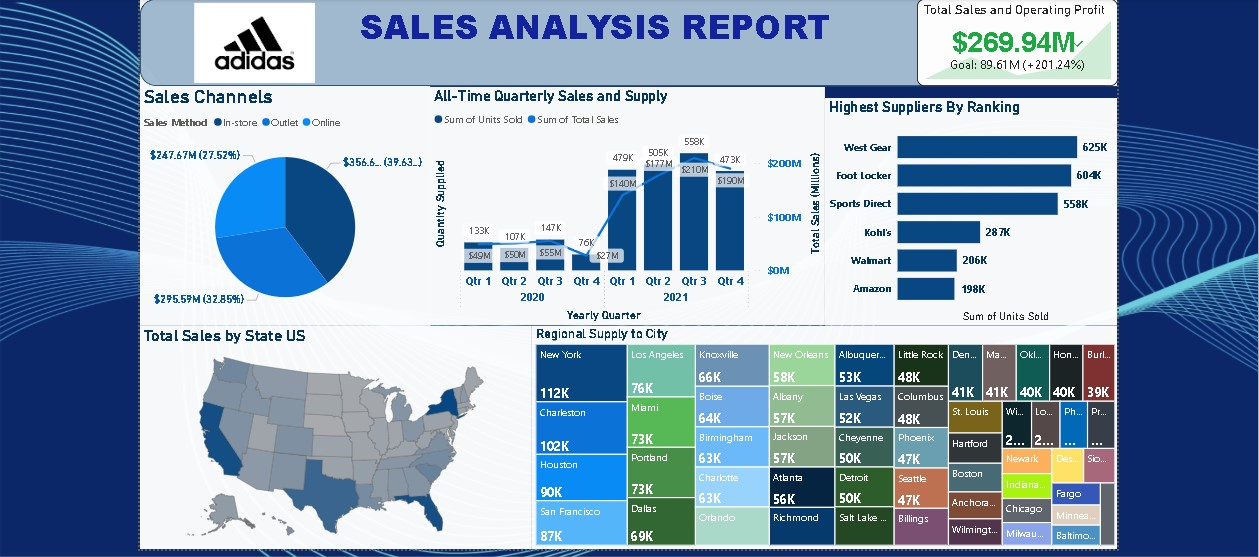

What the dashboard file says about the page in this screenshot:
{"tool":"powerbi","page":{"name":"Page 1","canvas":[1280,720],"ordinal":0},"visuals":[{"type":"shape","box":[0,0,1280.2,113.8],"z":0},{"type":"shapeMap","title":"Total Sales by State US","fields":{"Category":["Dataset.State"],"Value":["Sum(Dataset.Total Sales)"]},"box":[0,427.7,512.6,292.3],"z":1000},{"type":"pieChart","title":"Sales Channels","fields":{"Category":["Dataset.Sales Method"],"Y":["Sum(Dataset.Total Sales)"]},"box":[0,113.8,380.2,313.9],"z":2000},{"type":"clusteredBarChart","title":"Highest Suppliers By Ranking","fields":{"Category":["Dataset.Retailer"],"Y":["Sum(Dataset.Units Sold)"]},"box":[897.1,129.6,383,298.1],"z":3000},{"type":"treemap","title":"Regional Supply to City","fields":{"Group":["Dataset.City"],"Values":["Sum(Dataset.Units Sold)"]},"box":[512.6,427.7,767.5,292.3],"z":4000},{"type":"kpi","title":"Total Sales and Operating Profit","fields":{"Indicator":["Sum(Dataset.Total Sales)"],"Goal":["Sum(Dataset.Operating Profit)"],"TrendLine":["Dataset.Region"]},"box":[1017.2,0,262.8,114.4],"z":5000},{"type":"textbox","box":[271.7,0,647.2,71.5],"z":7000},{"type":"lineClusteredColumnComboChart","title":"All-Time Quarterly Sales and Supply","fields":{"Category":["Dataset.Invoice Date.Variation.Date Hierarchy.Year","Dataset.Invoice Date.Variation.Date Hierarchy.Quarter"],"Y":["Sum(Dataset.Units Sold)"],"Y2":["Sum(Dataset.Total Sales)"]},"box":[380.2,115.2,517,312.5],"z":8001},{"type":"image","box":[0,0,301,115.2],"z":8002}]}

Visuals, with their boxes in screenshot pixels (x1, y1, x2, y2):
shape: bbox(134, 0, 1112, 84)
"Total Sales by State US" shapeMap: bbox(134, 323, 526, 546)
"Sales Channels" pieChart: bbox(134, 84, 425, 323)
"Highest Suppliers By Ranking" clusteredBarChart: bbox(819, 96, 1112, 323)
"Regional Supply to City" treemap: bbox(526, 323, 1112, 546)
"Total Sales and Operating Profit" kpi: bbox(911, 0, 1112, 84)
textbox: bbox(342, 0, 836, 51)
"All-Time Quarterly Sales and Supply" lineClusteredColumnComboChart: bbox(425, 85, 819, 323)
image: bbox(134, 0, 364, 85)
